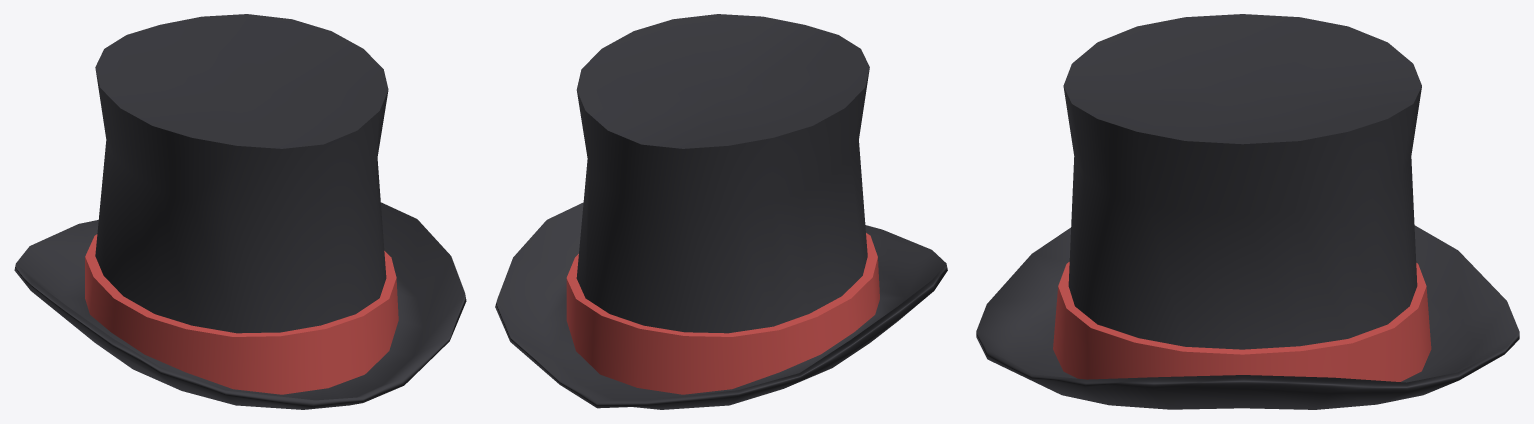
Rendered from MagicHat.glb.
3 renders of one model, left to right at view 1: azimuth 30°, elevation 25°; view 2: azimuth 150°, elevation 25°; view 3: azimuth 270°, elevation 25°, orthographic. The views are drawn at different scales.
Visible parts, largest first — view 1: TopHat; view 2: TopHat; view 3: TopHat.
Boxes of the visible parts, x1,y1,x2,y2 form: TopHat: [14, 14, 466, 409]; TopHat: [495, 14, 947, 409]; TopHat: [976, 14, 1519, 409].
Bounding box in the file's own units: 0.6711 × 0.4604 × 0.8113.
Materials: 1 (1 with a texture image).
